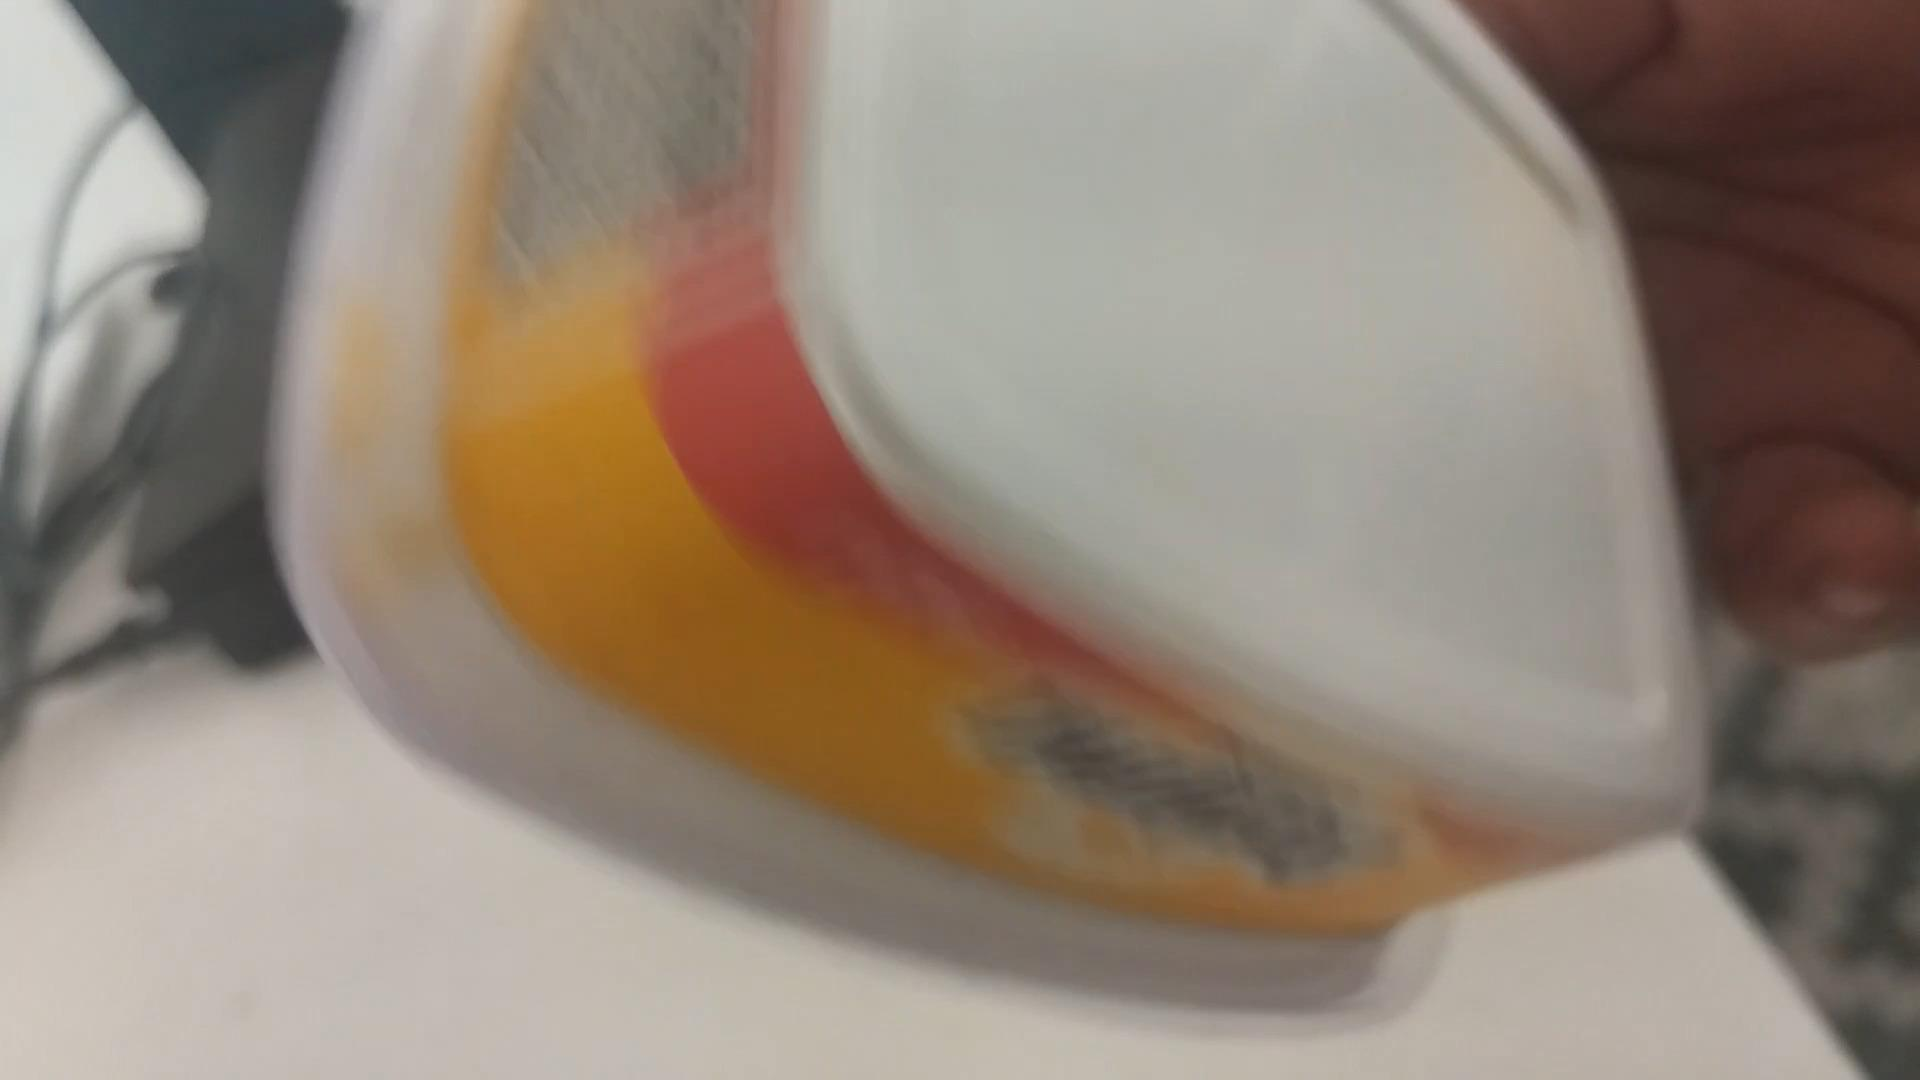butter: (272, 0, 1718, 1030)
